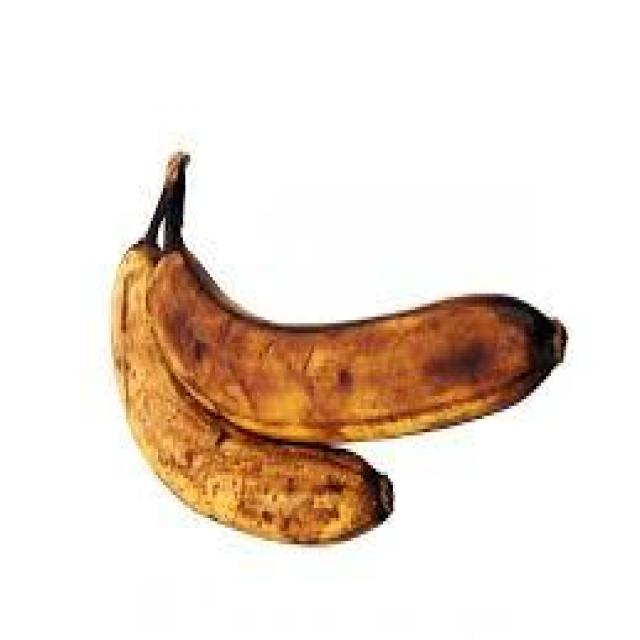Overripe: (70, 213, 407, 570), (140, 225, 578, 458)
